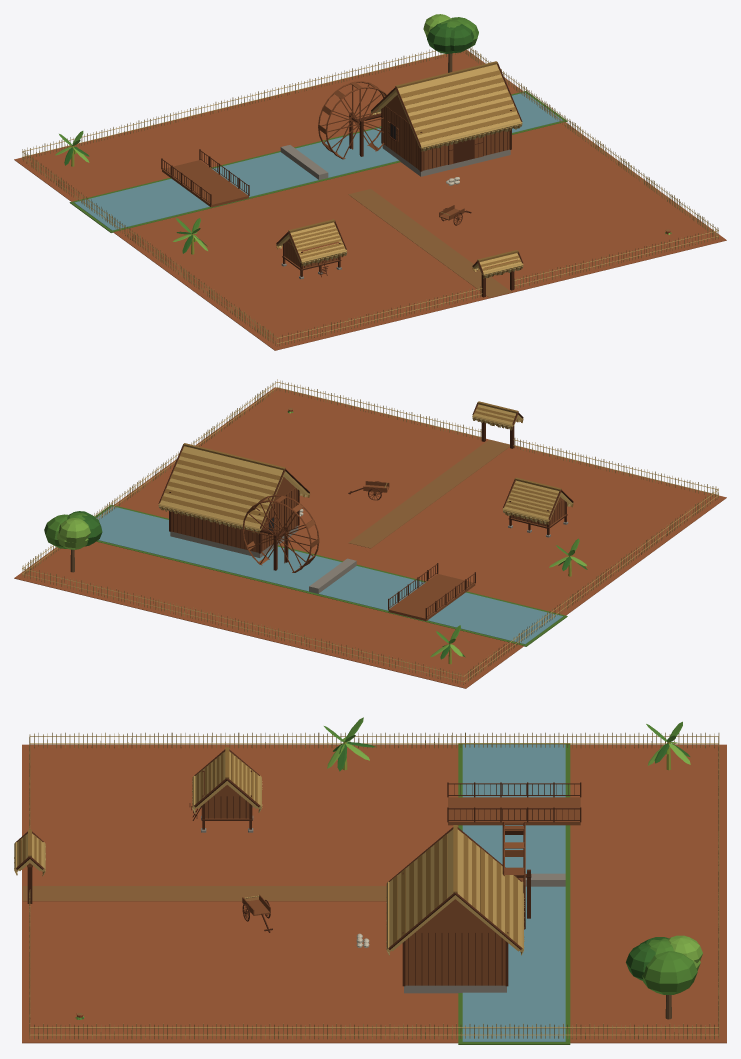
Rendered from power_plant.glb.
The picture shows the model from 3 angles, top to bottom: view 1: azimuth 30°, elevation 25°; view 2: azimuth 150°, elevation 25°; view 3: azimuth 270°, elevation 25°; orthographic projection. The views are drawn at different scales.
Parts seen in each view (by area): view 1: body; view 2: body; view 3: body.
Boxes of the visible parts, bbox=[...] form: body: bbox=[14, 14, 726, 350]; body: bbox=[14, 379, 726, 688]; body: bbox=[14, 717, 726, 1044].
Bounding box in the file's own units: 48.4 × 8.37 × 48.44.
